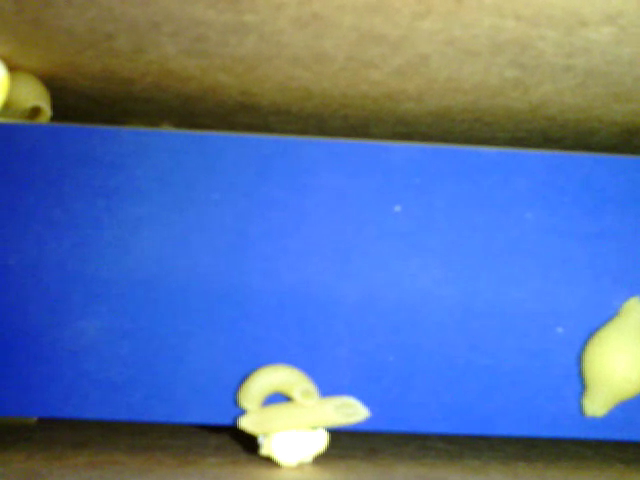elbow: (234, 361, 318, 409)
penne: (238, 395, 372, 441)
shell: (577, 289, 638, 419), (4, 71, 55, 125)
